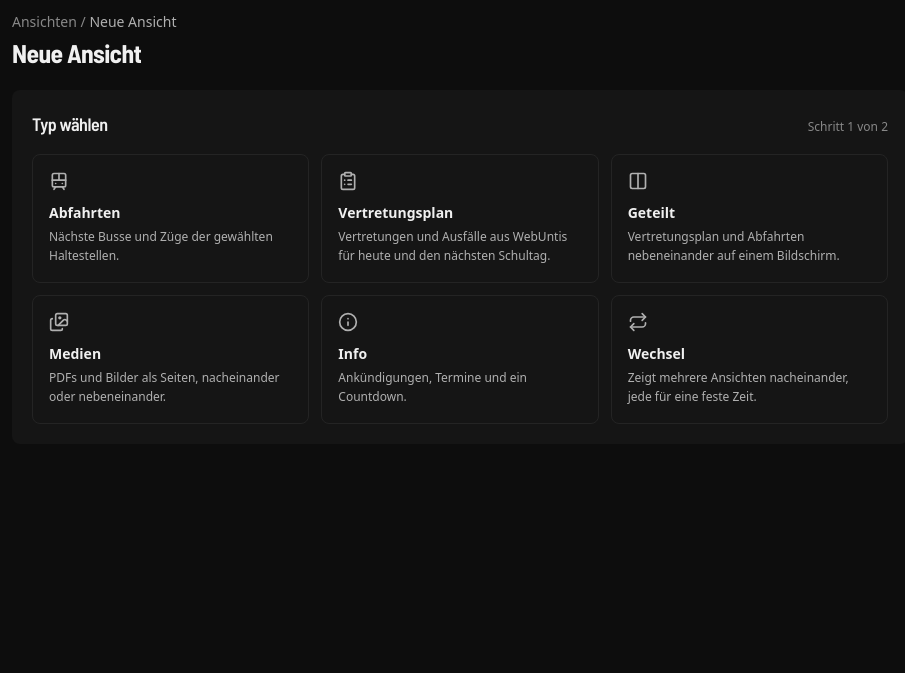
Test case: ViewEdit › beginnt eine neue Ansicht mit der Wahl des Typs
Expected: the text "Anlegen" is not shown
Click the radio button that starts with "Wechsel". click: [656, 353]
box: [611,295,888,424]
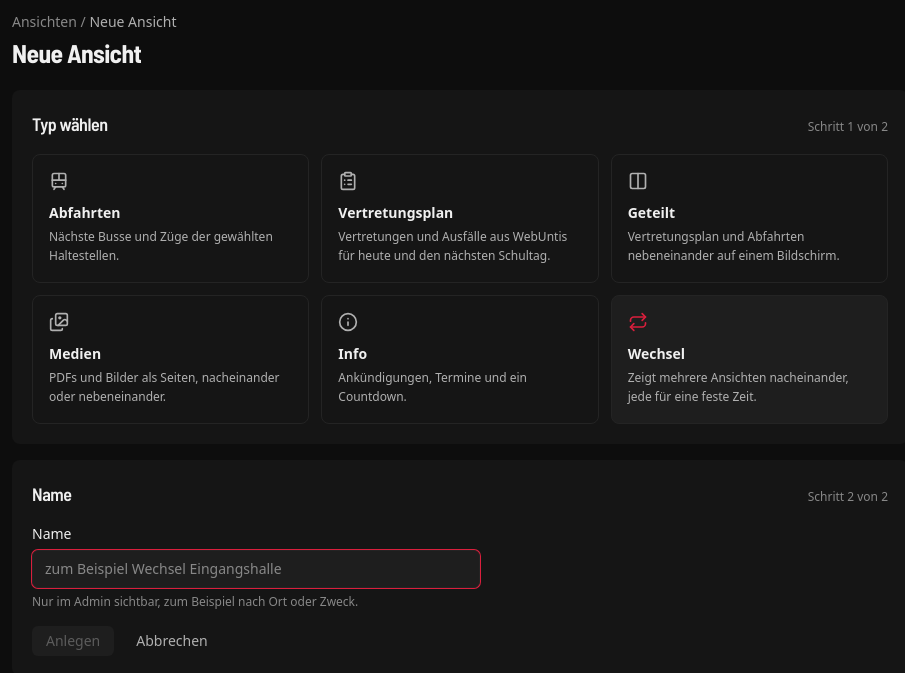
Now the text "Anlegen" is shown, box [32,626,114,656]
